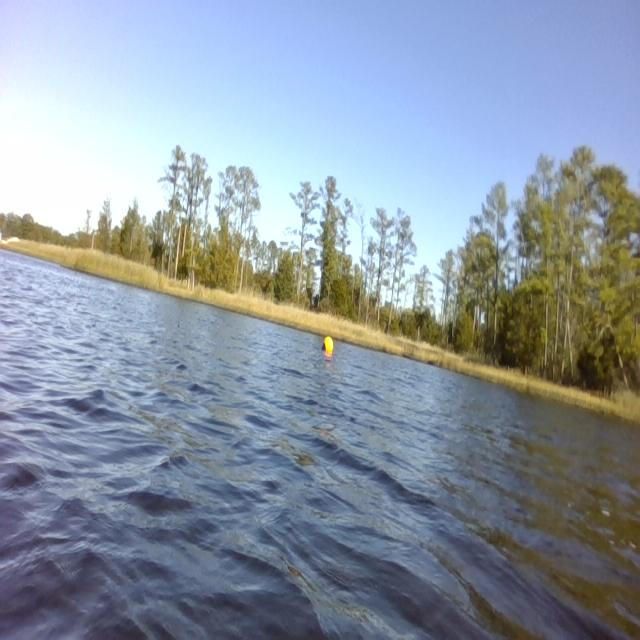Buoy: (320, 329, 334, 360)
